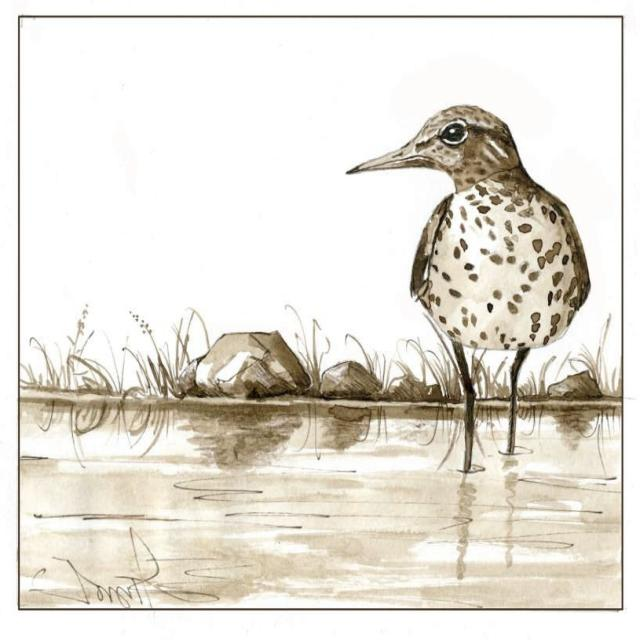sandpiper: (348, 105, 591, 472)
